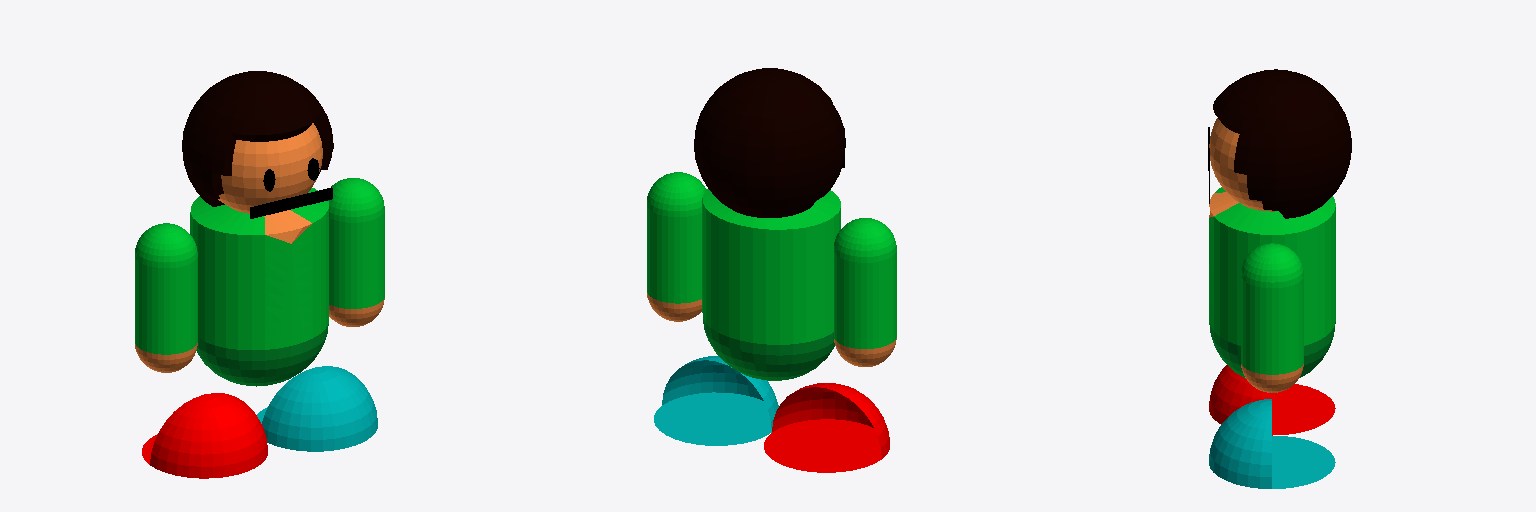
The model's file is Greenate.obj.
3 renders of one model, left to right at view 1: azimuth 30°, elevation 25°; view 2: azimuth 150°, elevation 25°; view 3: azimuth 270°, elevation 25°, orthographic.
Parts seen in each view (by area): view 1: Greenate_Character; view 2: Greenate_Character; view 3: Greenate_Character.
Boxes of the visible parts, x1,y1,x2,y2 form: Greenate_Character: [135, 71, 384, 478]; Greenate_Character: [647, 68, 896, 472]; Greenate_Character: [1208, 69, 1351, 488].
Size of the model in its own units: 2.2 by 3.12 by 1.14.